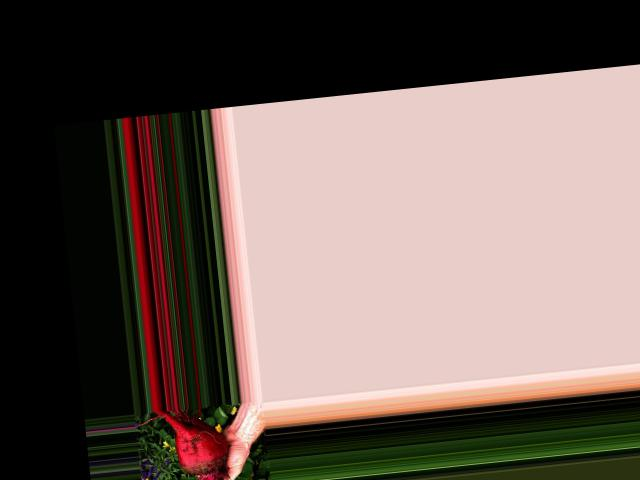beet: (153, 403, 233, 480)
